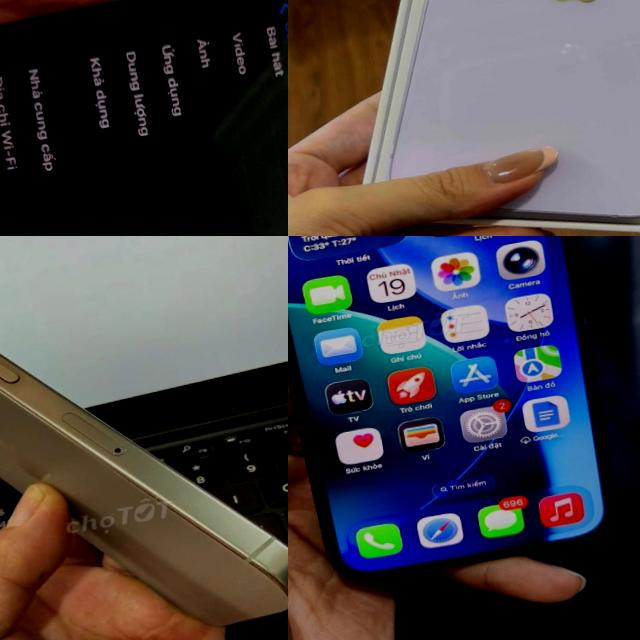gen_12_13: (288, 236, 638, 597)
gen_14: (308, 0, 640, 236)
gen_16: (0, 236, 288, 640)
gen_7_8: (0, 0, 288, 236)
